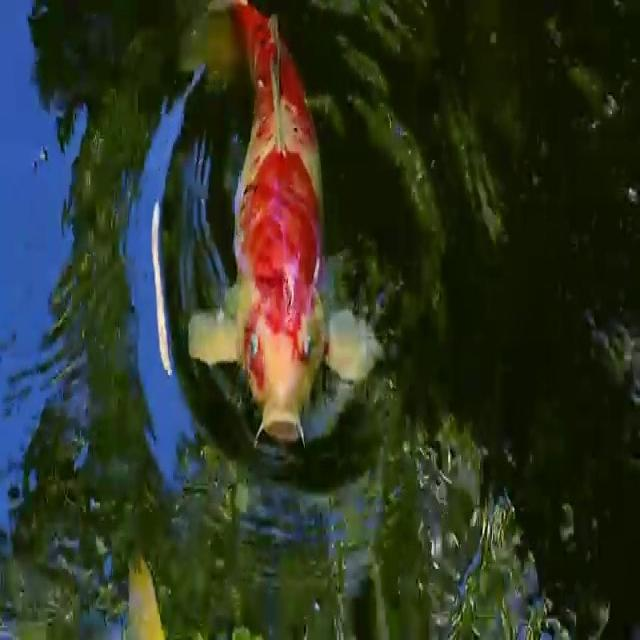fish: (182, 5, 383, 457)
